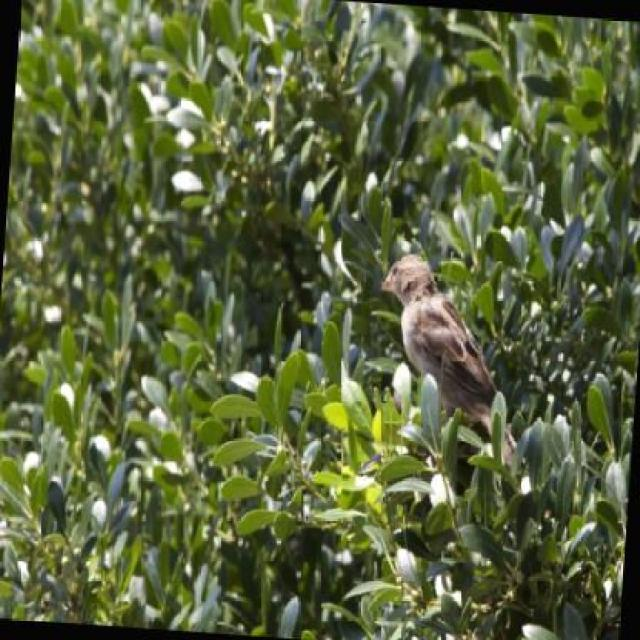Bird: (366, 249, 524, 465)
